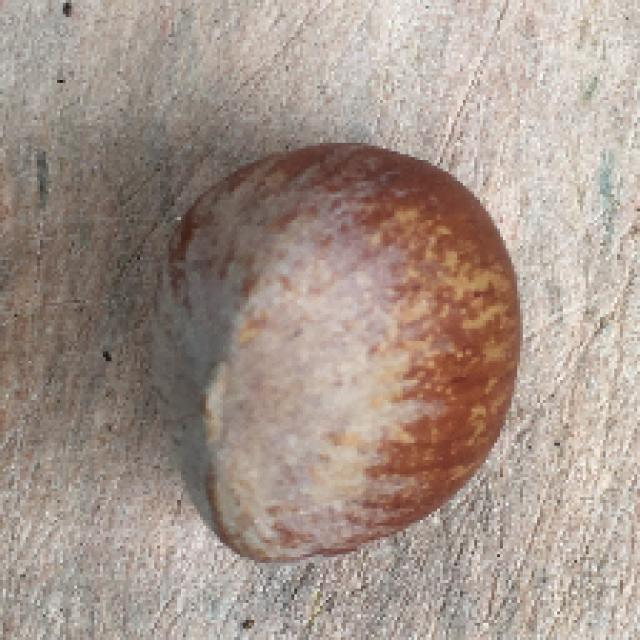qualityHazelnut: (144, 137, 524, 572)
